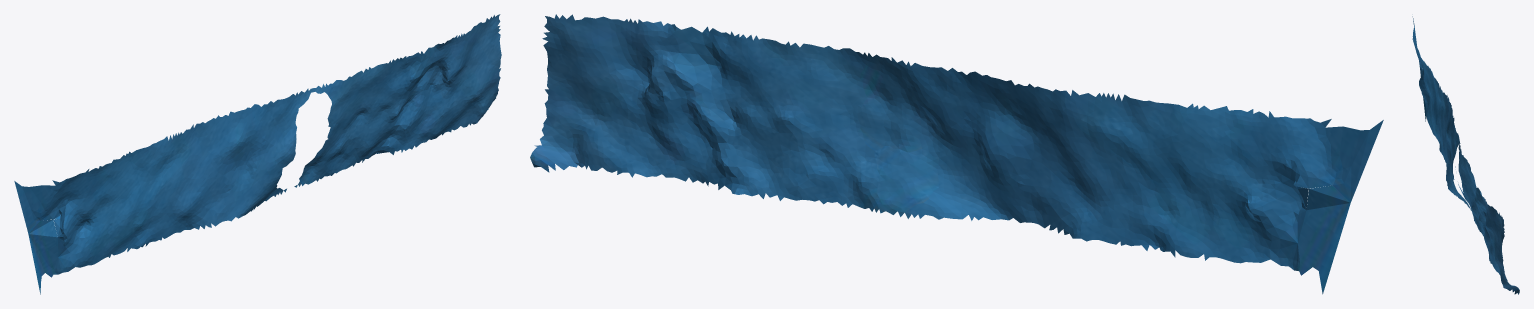
Rendered from tile_0452.gltf.
The picture shows the model from 3 angles, left to right: view 1: azimuth 30°, elevation 25°; view 2: azimuth 150°, elevation 25°; view 3: azimuth 270°, elevation 25°; orthographic projection. The views are drawn at different scales.
Visible parts, largest first — view 1: defaultobject; view 2: defaultobject; view 3: defaultobject.
Boxes of the visible parts, <box> form: defaultobject: <box>14,14,501,294</box>; defaultobject: <box>530,14,1383,294</box>; defaultobject: <box>1412,16,1519,294</box>.
Size of the model in its own units: 1.68 by 0.3776 by 0.3865.
Materials: 2 (2 with a texture image).
